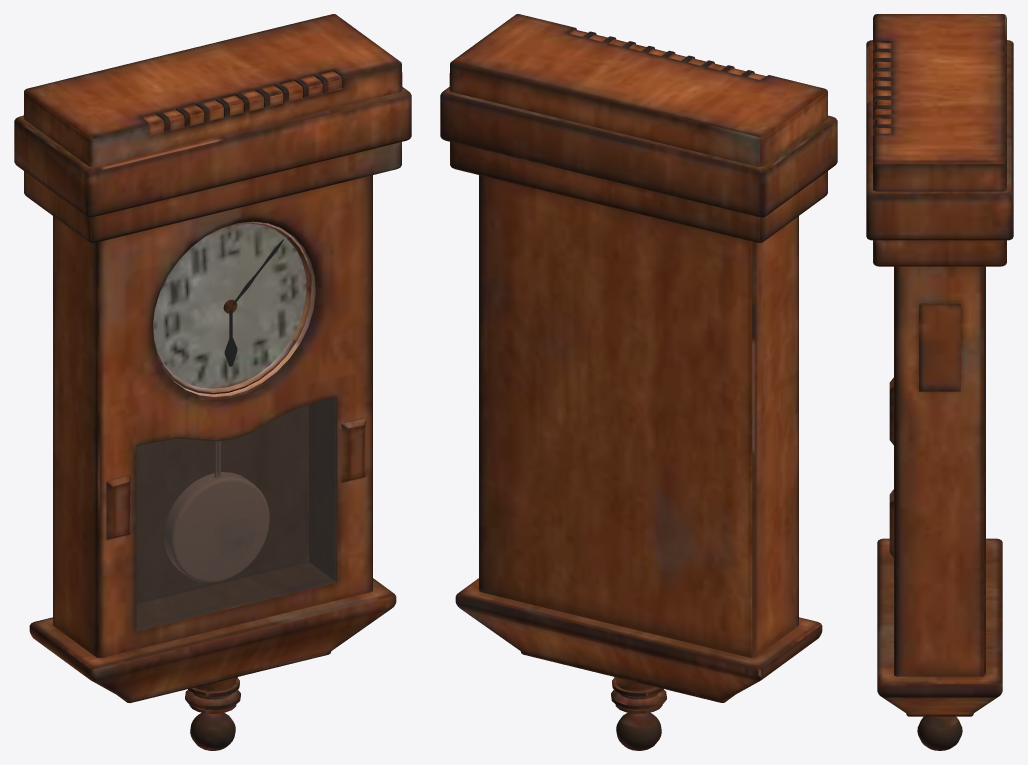
Rendered from clockA.glb.
3 views of the same model, side by side, from view 1: azimuth 30°, elevation 25°; view 2: azimuth 150°, elevation 25°; view 3: azimuth 270°, elevation 25° (orthographic).
Parts seen in each view (by area): view 1: defaultMaterial (×3); view 2: defaultMaterial; view 3: defaultMaterial.
Boxes of the visible parts, x1,y1,x2,y2 form: defaultMaterial (×3): [14, 14, 411, 750]; defaultMaterial: [440, 14, 837, 750]; defaultMaterial: [866, 14, 1013, 750].
Size of the model in its own units: 55.34 by 110 by 22.12.
3 materials, 2 textured.
